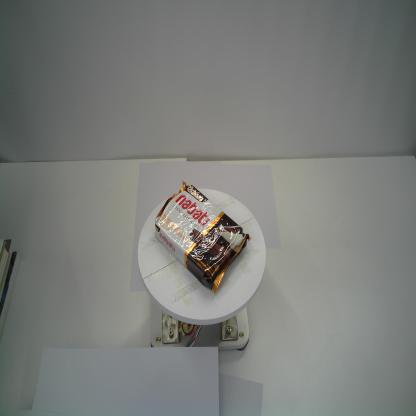Dessert: (154, 178, 252, 295)
